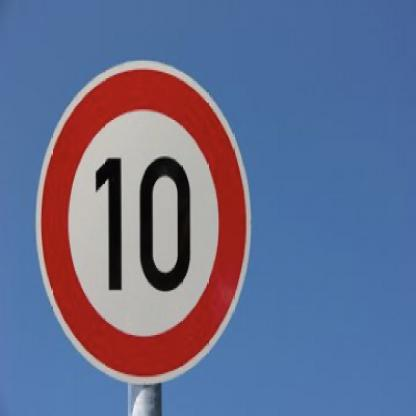speedlimit: (38, 58, 252, 380)
